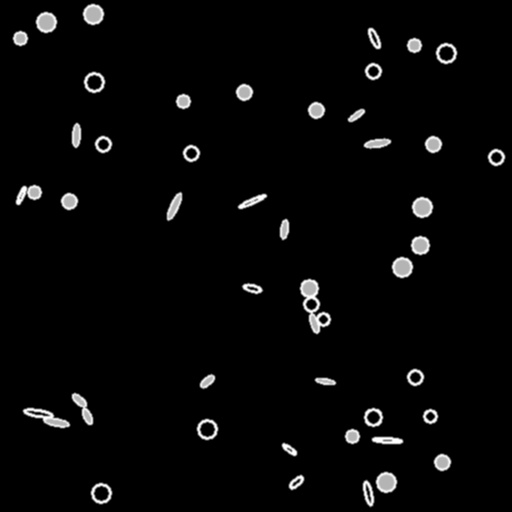pseudomonas: (165, 192, 183, 220), (238, 193, 266, 209), (362, 480, 374, 506), (23, 408, 53, 418), (44, 416, 68, 428), (367, 28, 381, 48), (364, 138, 390, 148), (199, 373, 215, 389), (71, 392, 87, 408), (347, 108, 365, 122), (80, 407, 94, 425), (308, 313, 320, 333), (242, 282, 262, 294), (281, 442, 297, 456), (288, 475, 304, 489), (15, 186, 27, 204), (72, 124, 80, 146), (373, 437, 401, 443), (280, 219, 288, 239), (316, 377, 334, 385)
synechocystis: (393, 258, 411, 276), (85, 73, 103, 91), (377, 473, 395, 491), (92, 484, 110, 502), (37, 13, 55, 31), (437, 44, 455, 62), (198, 420, 216, 438), (413, 198, 431, 216), (84, 5, 102, 23), (365, 409, 381, 425), (412, 237, 428, 253), (301, 280, 317, 296), (62, 194, 76, 208), (426, 137, 440, 151), (184, 146, 198, 160), (304, 297, 318, 311), (489, 150, 503, 164), (408, 370, 422, 384), (96, 137, 110, 151), (435, 455, 449, 469), (309, 103, 323, 117), (366, 64, 380, 78), (237, 85, 251, 99), (317, 313, 329, 325), (28, 186, 40, 198), (177, 95, 189, 107), (346, 430, 358, 442), (14, 32, 26, 44), (424, 410, 436, 422), (408, 39, 420, 51)
